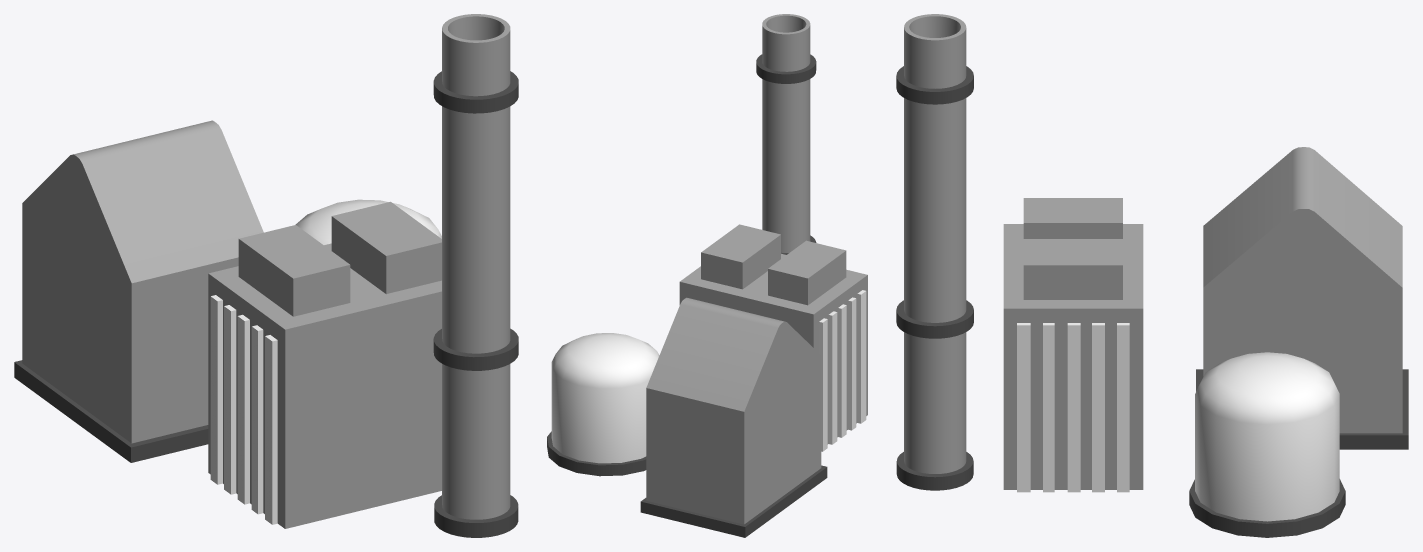
File: GasPowerStation.fbx
The picture shows the model from 3 angles, left to right: view 1: azimuth 30°, elevation 25°; view 2: azimuth 150°, elevation 25°; view 3: azimuth 270°, elevation 25°; orthographic projection. The views are drawn at different scales.
Parts seen in each view (by area): view 1: natural_gas; view 2: natural_gas; view 3: natural_gas.
Part boxes in pixels (box(x1,y1,x2,y2)): natural_gas: box(14, 14, 518, 537); natural_gas: box(547, 14, 867, 537); natural_gas: box(896, 14, 1408, 537).
Size of the model in its own units: 365 by 493 by 512.
